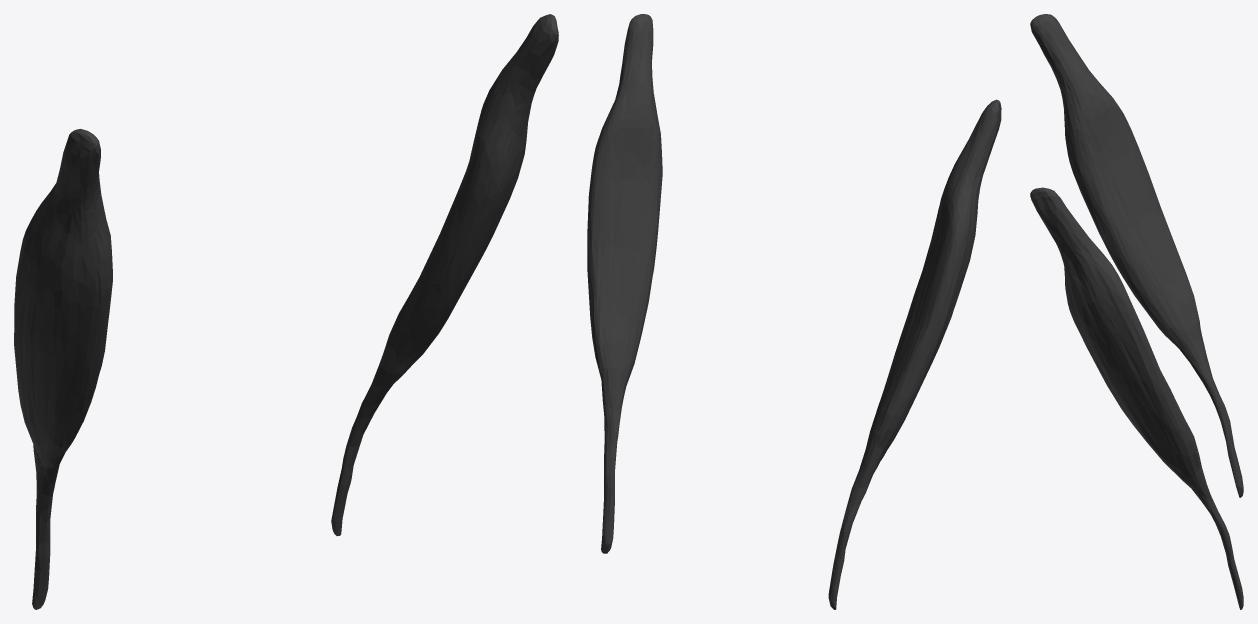
File: m_extensor_digitorum_longus.glb
The picture shows the model from 3 angles, left to right: view 1: azimuth 30°, elevation 25°; view 2: azimuth 150°, elevation 25°; view 3: azimuth 270°, elevation 25°; orthographic projection. The views are drawn at different scales.
Parts seen in each view (by area): view 1: m_extensor_digitorum_longus; view 2: m_extensor_digitorum_longus; view 3: m_extensor_digitorum_longus.
Part boxes in pixels (x1,y1,x2,y2): m_extensor_digitorum_longus: (14,14,558,609); m_extensor_digitorum_longus: (587,14,1001,609); m_extensor_digitorum_longus: (1030,14,1243,609).
Size of the model in its own units: 0.00728 by 0.00849 by 0.00363.
1 material, 1 textured.
